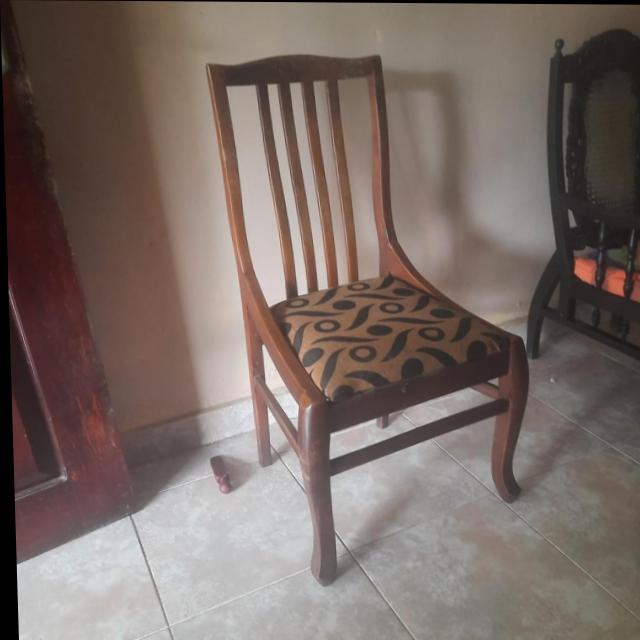Chair: (205, 53, 533, 586)
